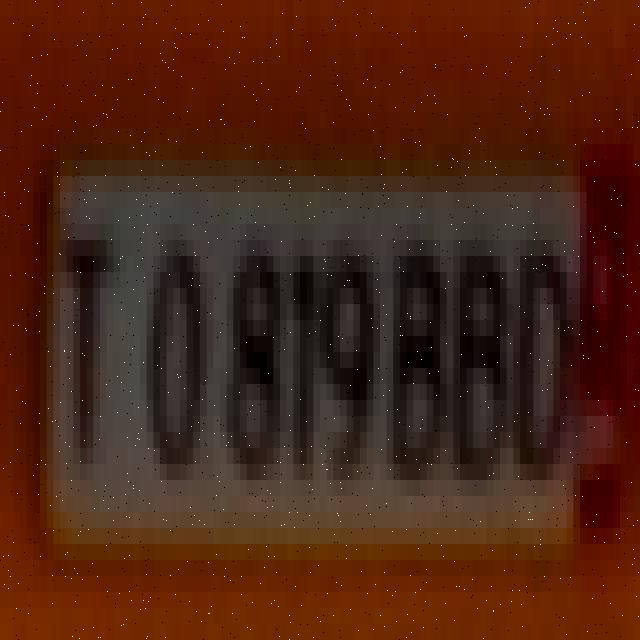licenseplate: (22, 121, 628, 596)
